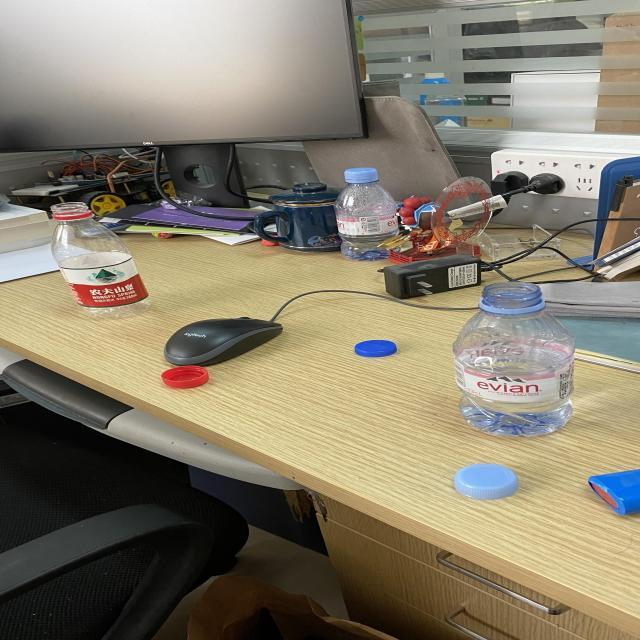Pet_Bottle: (466, 280, 574, 444), (43, 204, 149, 322), (323, 160, 393, 258)
